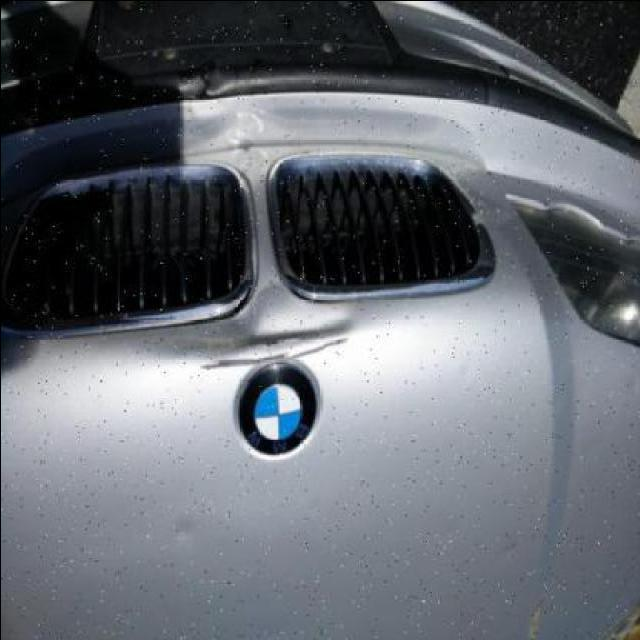bonnet-dent: (72, 266, 563, 640)
